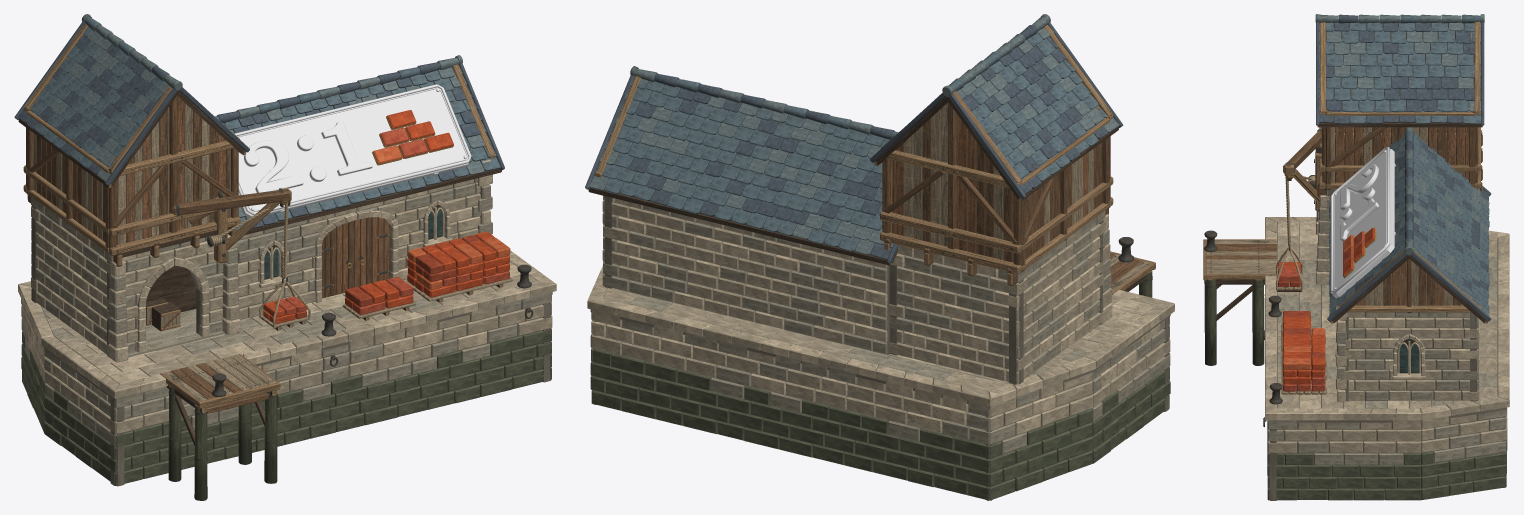
The model's file is brick-harbor.fbx.
3 renders of one model, left to right at view 1: azimuth 30°, elevation 25°; view 2: azimuth 150°, elevation 25°; view 3: azimuth 270°, elevation 25°, orthographic. The views are drawn at different scales.
Parts seen in each view (by area): view 1: HarborHouse, QuayWall, TradePlaque, PierDeck, BrickStack, LoadingCrane; view 2: HarborHouse, QuayWall, PierDeck; view 3: HarborHouse, QuayWall, TradePlaque, PierDeck, BrickStack, LoadingCrane.
Boxes of the visible parts, x1=… form: HarborHouse: x1=14, y1=14, x2=504, y2=362; QuayWall: x1=18, y1=250, x2=556, y2=486; TradePlaque: x1=234, y1=84, x2=471, y2=217; PierDeck: x1=160, y1=354, x2=280, y2=500; BrickStack: x1=342, y1=231, x2=512, y2=320; LoadingCrane: x1=172, y1=188, x2=310, y2=330; HarborHouse: x1=585, y1=14, x2=1123, y2=384; QuayWall: x1=587, y1=266, x2=1174, y2=500; PierDeck: x1=1109, y1=237, x2=1155, y2=297; HarborHouse: x1=1315, y1=14, x2=1491, y2=402; QuayWall: x1=1263, y1=217, x2=1509, y2=500; TradePlaque: x1=1330, y1=147, x2=1395, y2=297; PierDeck: x1=1203, y1=230, x2=1276, y2=365; BrickStack: x1=1281, y1=311, x2=1326, y2=394; LoadingCrane: x1=1275, y1=129, x2=1322, y2=291.
Size of the model in its own units: 0.0245 by 0.0194 by 0.0161.
